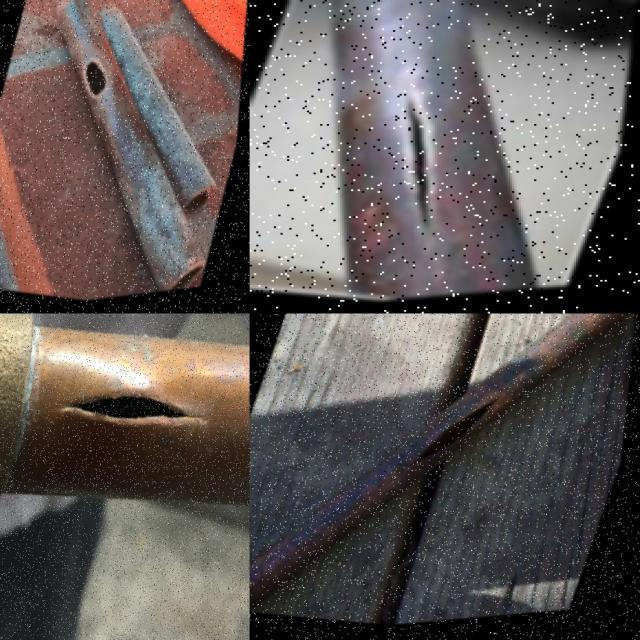crack: (403, 395, 506, 478), (406, 80, 439, 240)
hole: (78, 56, 120, 110)
rupture: (56, 371, 223, 479)
